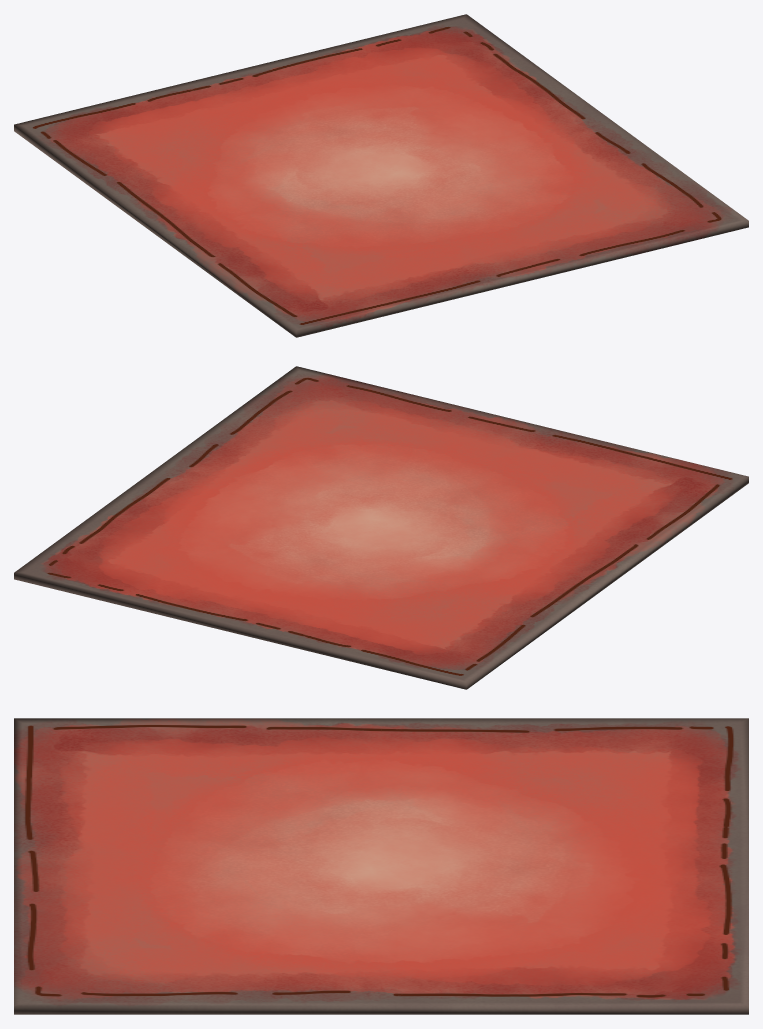
File: skin.fbx
3 renders of one model, top to bottom at view 1: azimuth 30°, elevation 25°; view 2: azimuth 150°, elevation 25°; view 3: azimuth 270°, elevation 25°, orthographic. The views are drawn at different scales.
Parts seen in each view (by area): view 1: skin; view 2: skin; view 3: skin.
Boxes of the visible parts, x1,y1,x2,y2 form: skin: (14, 14, 748, 337); skin: (14, 366, 748, 689); skin: (14, 718, 748, 1014).
Size of the model in its own units: 31.76 by 0.4421 by 34.31.
